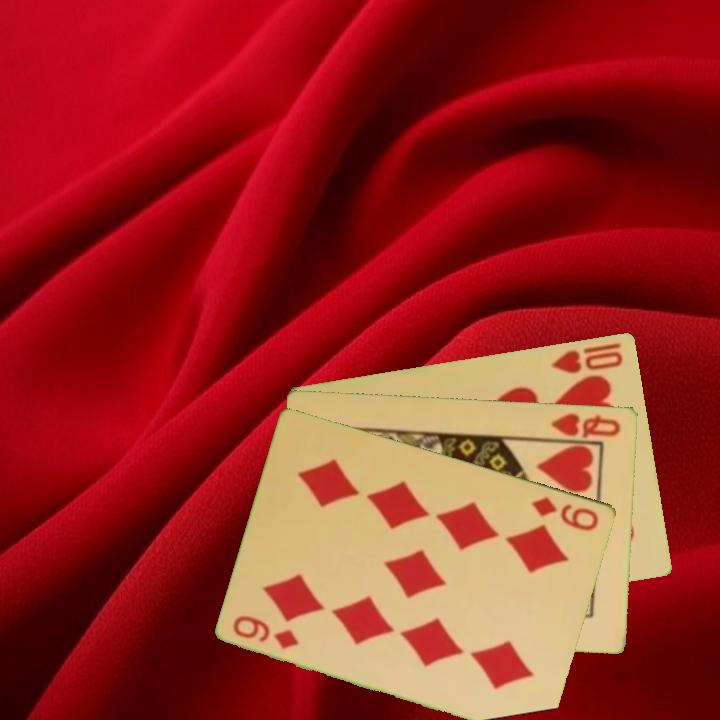10h: (548, 339, 626, 376)
9d: (528, 492, 602, 534), (230, 611, 302, 652)
Qh: (548, 409, 623, 440)
